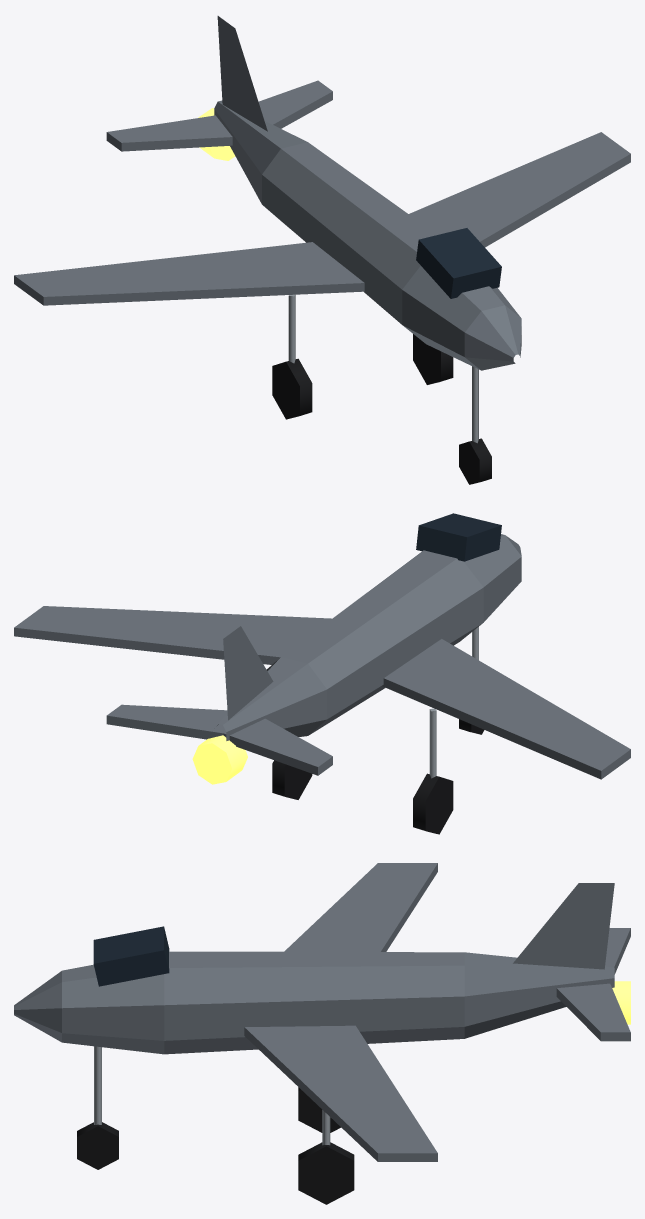
File: veh_air_fighter_a07.glb
The picture shows the model from 3 angles, top to bottom: view 1: azimuth 30°, elevation 25°; view 2: azimuth 150°, elevation 25°; view 3: azimuth 270°, elevation 25°; orthographic projection.
Visible parts, largest first — view 1: body, gear_1, gear_0, gear_2; view 2: body, gear_1, gear_2; view 3: body, gear_2, gear_0, gear_1.
Boxes of the visible parts, bbox=[...] form: body: bbox=[14, 16, 630, 370]; gear_1: bbox=[272, 294, 312, 419]; gear_0: bbox=[459, 366, 491, 484]; gear_2: bbox=[413, 334, 453, 384]; body: bbox=[14, 513, 630, 784]; gear_1: bbox=[413, 708, 453, 834]; gear_2: bbox=[272, 760, 312, 799]; body: bbox=[14, 863, 630, 1161]; gear_2: bbox=[298, 1110, 354, 1204]; gear_0: bbox=[77, 1046, 118, 1169]; gear_1: bbox=[298, 1087, 340, 1132].
Size of what is drawn, in the model's own units: 8.48 by 3.89 by 7.62.
